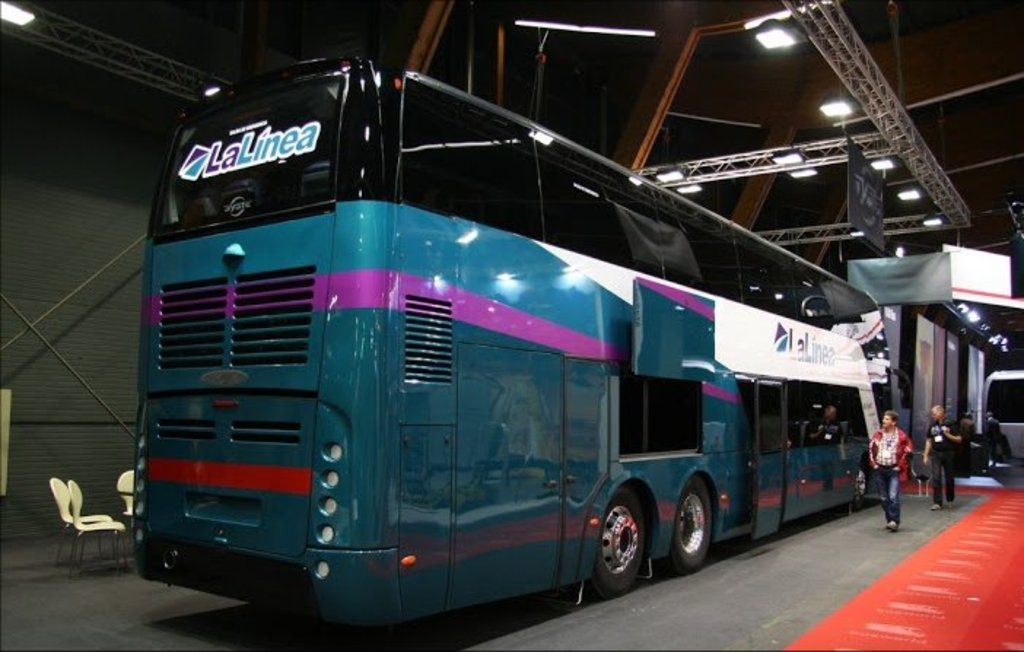Bus: (126, 51, 924, 644)
